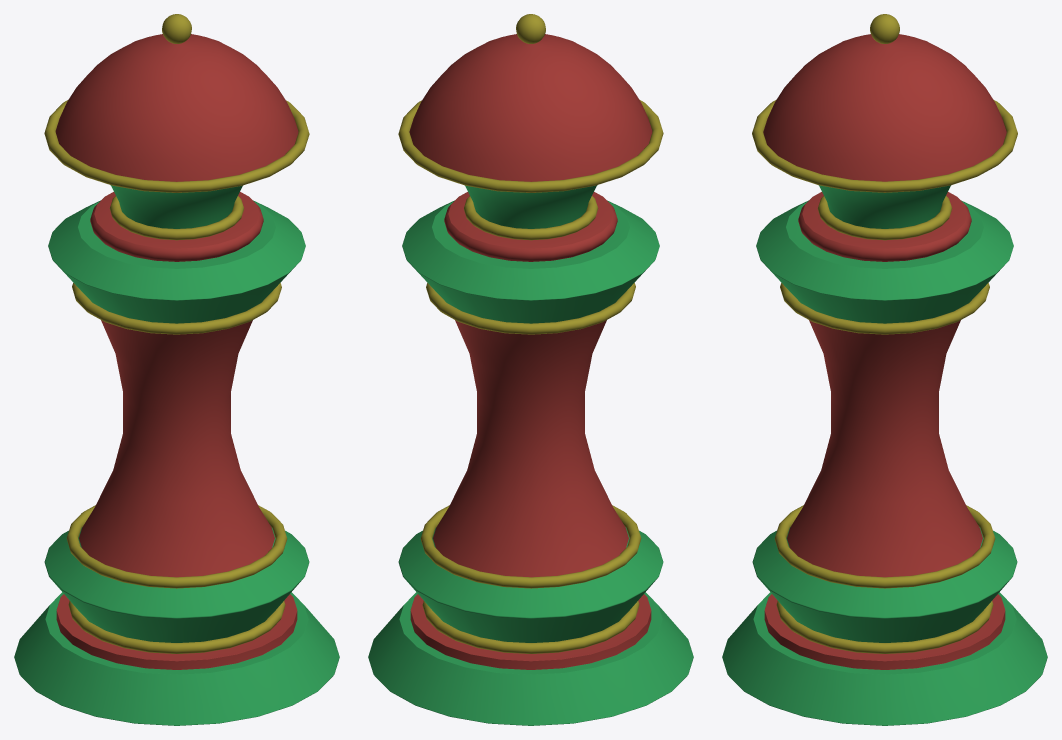
The model's file is Pawn_fbx.fbx.
3 views of the same model, side by side, from view 1: azimuth 30°, elevation 25°; view 2: azimuth 150°, elevation 25°; view 3: azimuth 270°, elevation 25° (orthographic).
Visible parts, largest first — view 1: Pawn; view 2: Pawn; view 3: Pawn.
Part boxes in pixels (x1,y1,x2,y2): Pawn: (14, 14, 339, 725); Pawn: (368, 14, 693, 725); Pawn: (722, 14, 1047, 725).
Bounding box in the file's own units: 0.023 × 0.05 × 0.023.
